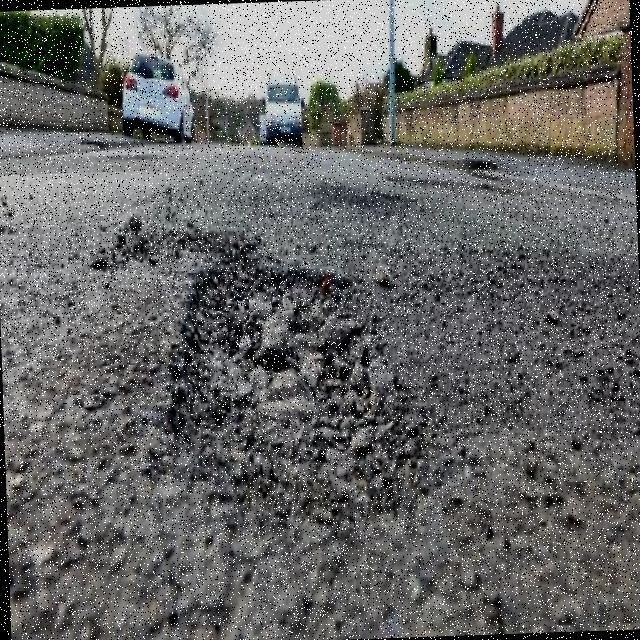Pothole: (130, 232, 418, 515)
